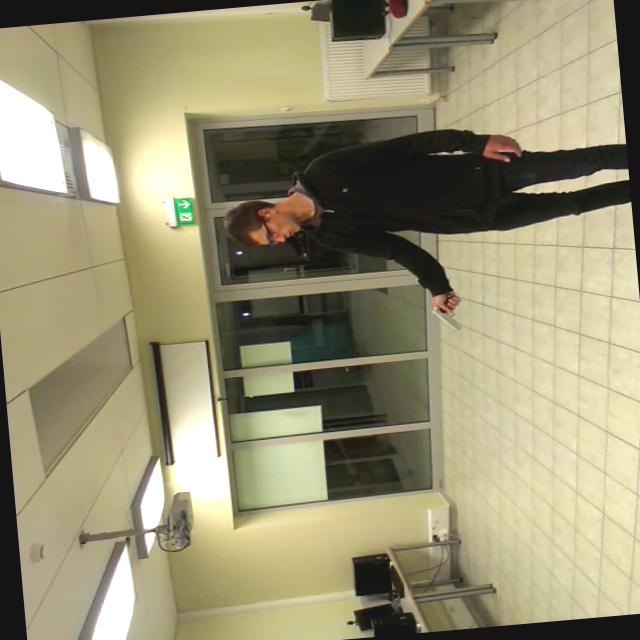handgun: (422, 298, 476, 336)
